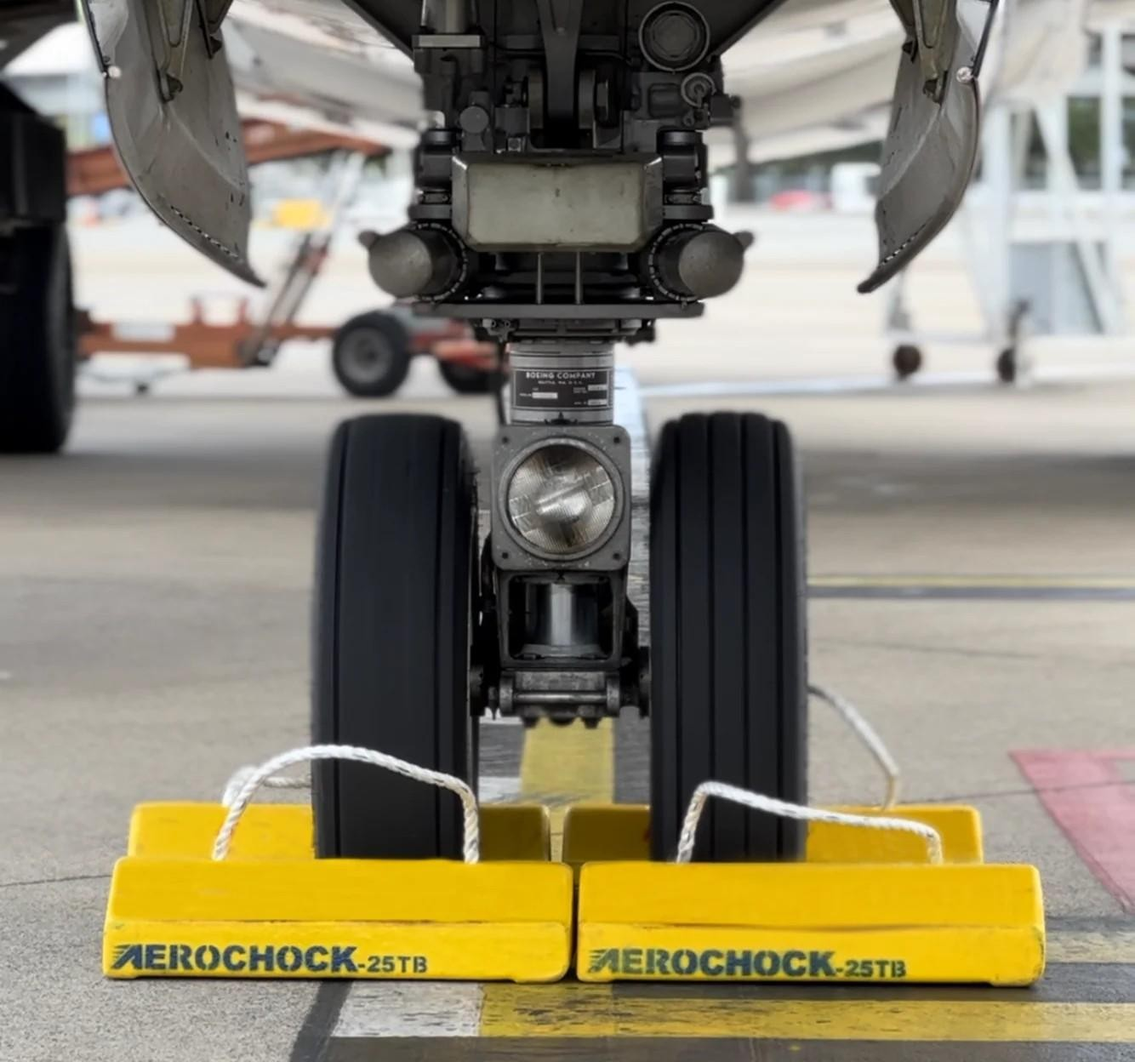chock: (102, 855, 574, 986), (577, 859, 1049, 987), (123, 797, 557, 864), (562, 803, 991, 867)
wheel: (315, 409, 478, 857), (646, 410, 802, 865), (7, 248, 77, 448), (332, 312, 407, 394), (439, 352, 497, 393)
